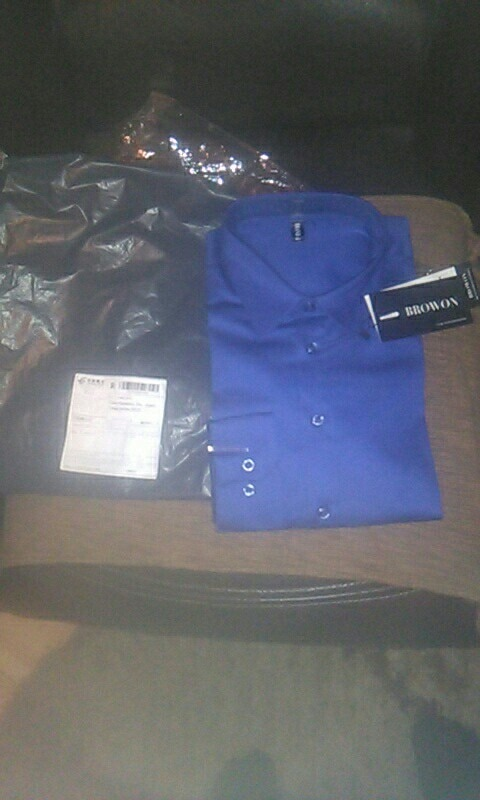shirts: (180, 207, 454, 531)
